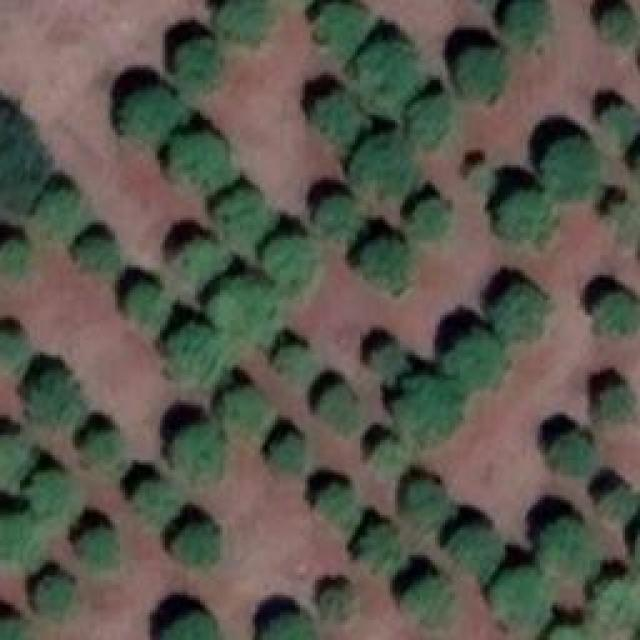Tree: (348, 133, 433, 199), (484, 273, 552, 346), (0, 107, 46, 209), (493, 180, 558, 248), (168, 128, 234, 194), (395, 370, 460, 437), (213, 273, 278, 338), (538, 133, 597, 200), (307, 0, 375, 58), (20, 368, 82, 431), (213, 178, 273, 242), (532, 515, 591, 578), (493, 563, 548, 630), (263, 230, 325, 288), (120, 88, 184, 144), (353, 30, 414, 88), (356, 227, 414, 286), (0, 505, 45, 580), (166, 320, 220, 382), (451, 330, 508, 388), (315, 90, 372, 147), (500, 0, 563, 51), (173, 423, 223, 487), (212, 0, 280, 46), (455, 37, 507, 96), (588, 572, 640, 631), (175, 38, 229, 90), (404, 93, 458, 145), (590, 2, 638, 60), (32, 470, 79, 529), (448, 525, 499, 577), (407, 482, 453, 539), (315, 378, 366, 429), (173, 510, 220, 563), (33, 182, 88, 227), (545, 428, 592, 480), (310, 573, 355, 627), (173, 233, 222, 282), (73, 420, 123, 467), (350, 528, 399, 575), (600, 90, 639, 149), (78, 238, 119, 293), (590, 473, 635, 523), (125, 278, 169, 329), (36, 568, 76, 624), (225, 385, 272, 431), (0, 427, 36, 486), (600, 378, 640, 431), (398, 573, 447, 616), (590, 300, 639, 343), (250, 610, 320, 640), (160, 602, 215, 640), (0, 325, 34, 383), (127, 483, 173, 523), (370, 443, 413, 483), (415, 195, 452, 239), (275, 340, 311, 385), (273, 433, 314, 472), (318, 192, 352, 238), (85, 525, 122, 566), (318, 484, 353, 526), (607, 200, 640, 240), (373, 350, 403, 388), (2, 240, 23, 278), (550, 617, 585, 639), (0, 610, 25, 640)
